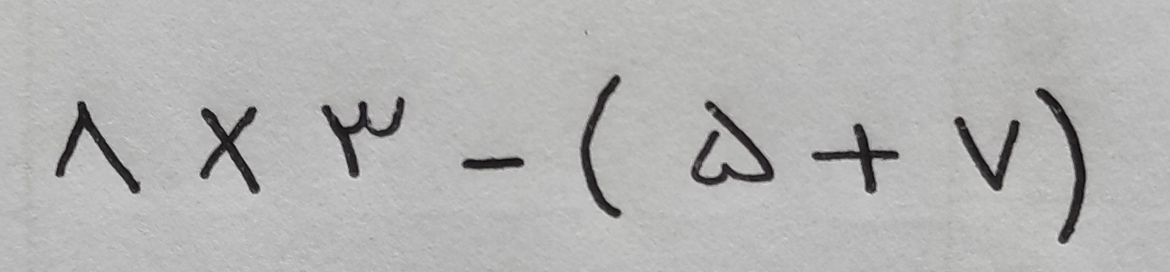character: (1035, 86, 1086, 245), (55, 101, 141, 194), (693, 99, 775, 189), (577, 74, 626, 219), (320, 96, 411, 174), (813, 122, 900, 194), (200, 104, 260, 194), (953, 114, 1020, 190), (460, 154, 528, 174)
